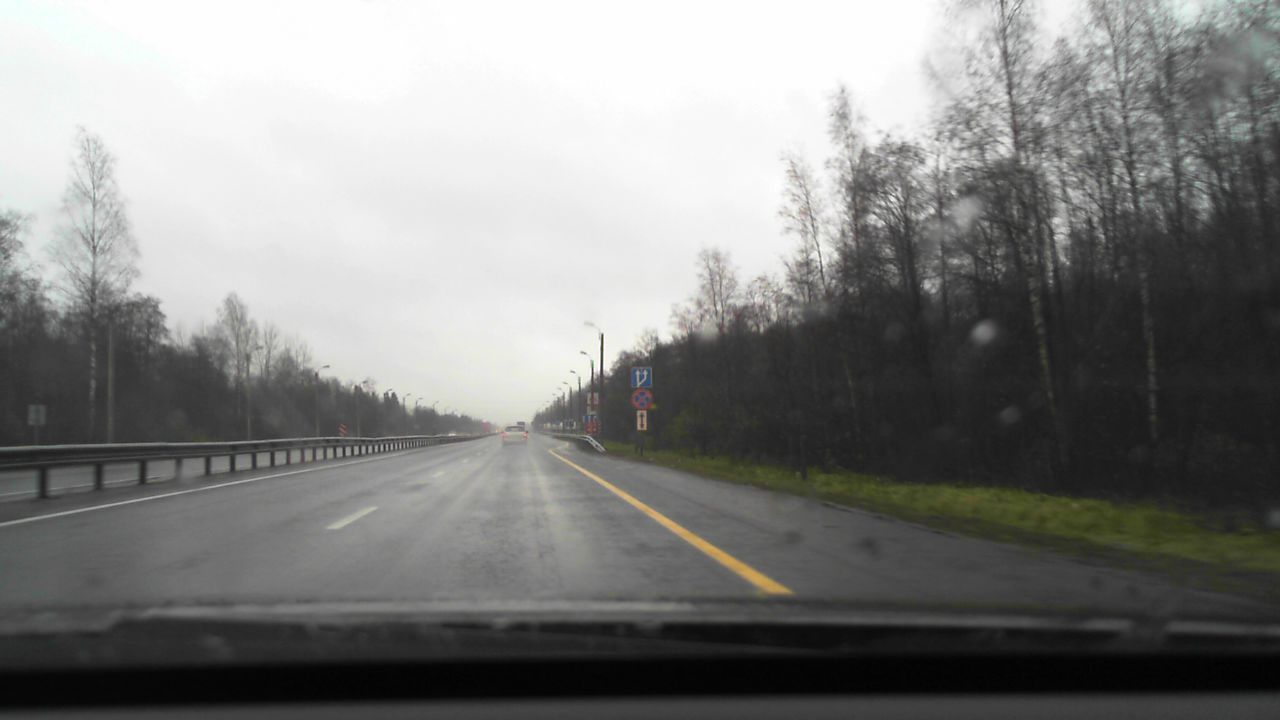No Parking: (630, 389, 652, 409)
